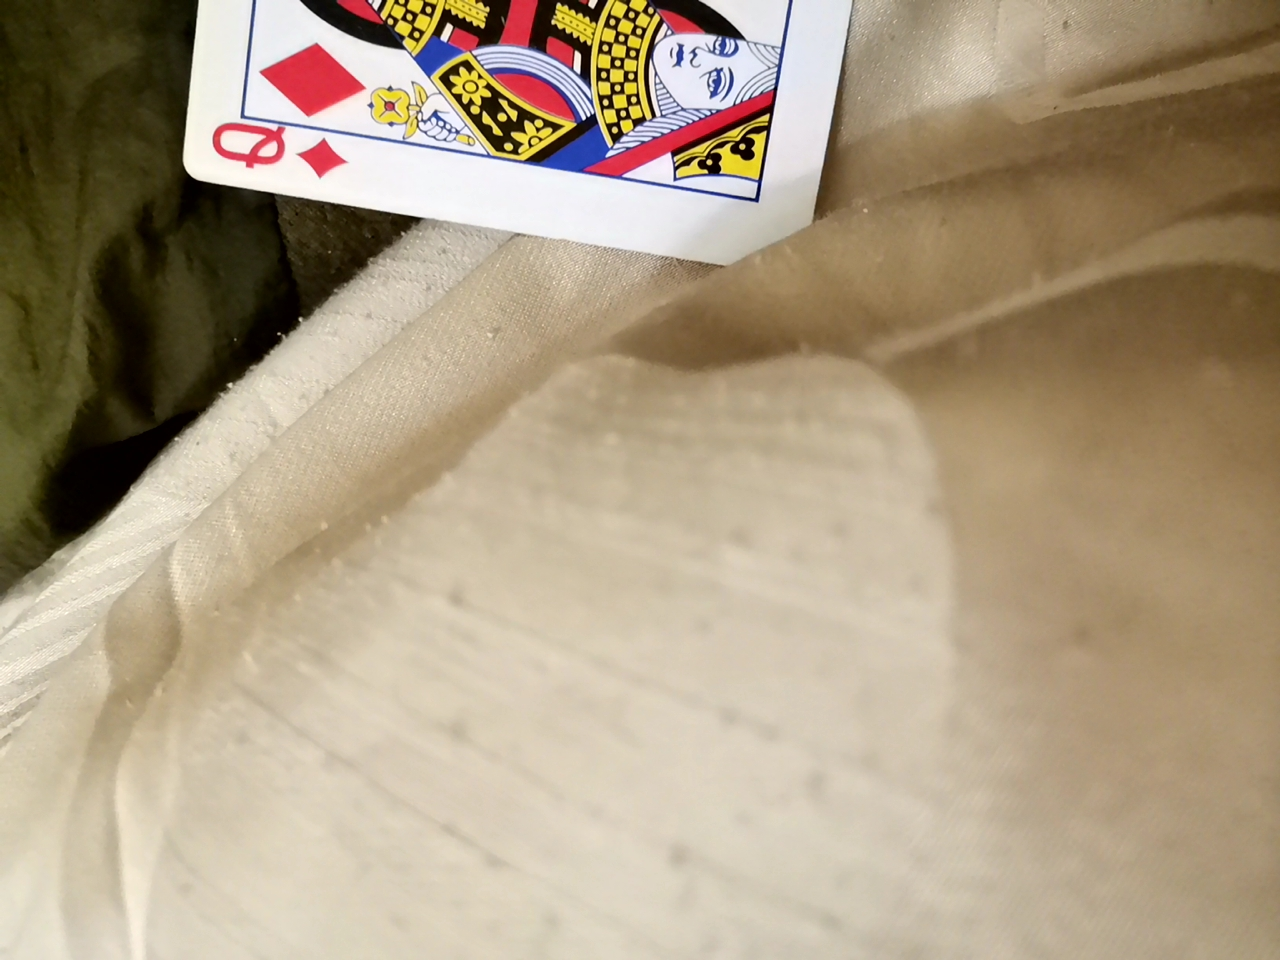fk q: (177, 1, 871, 287)
